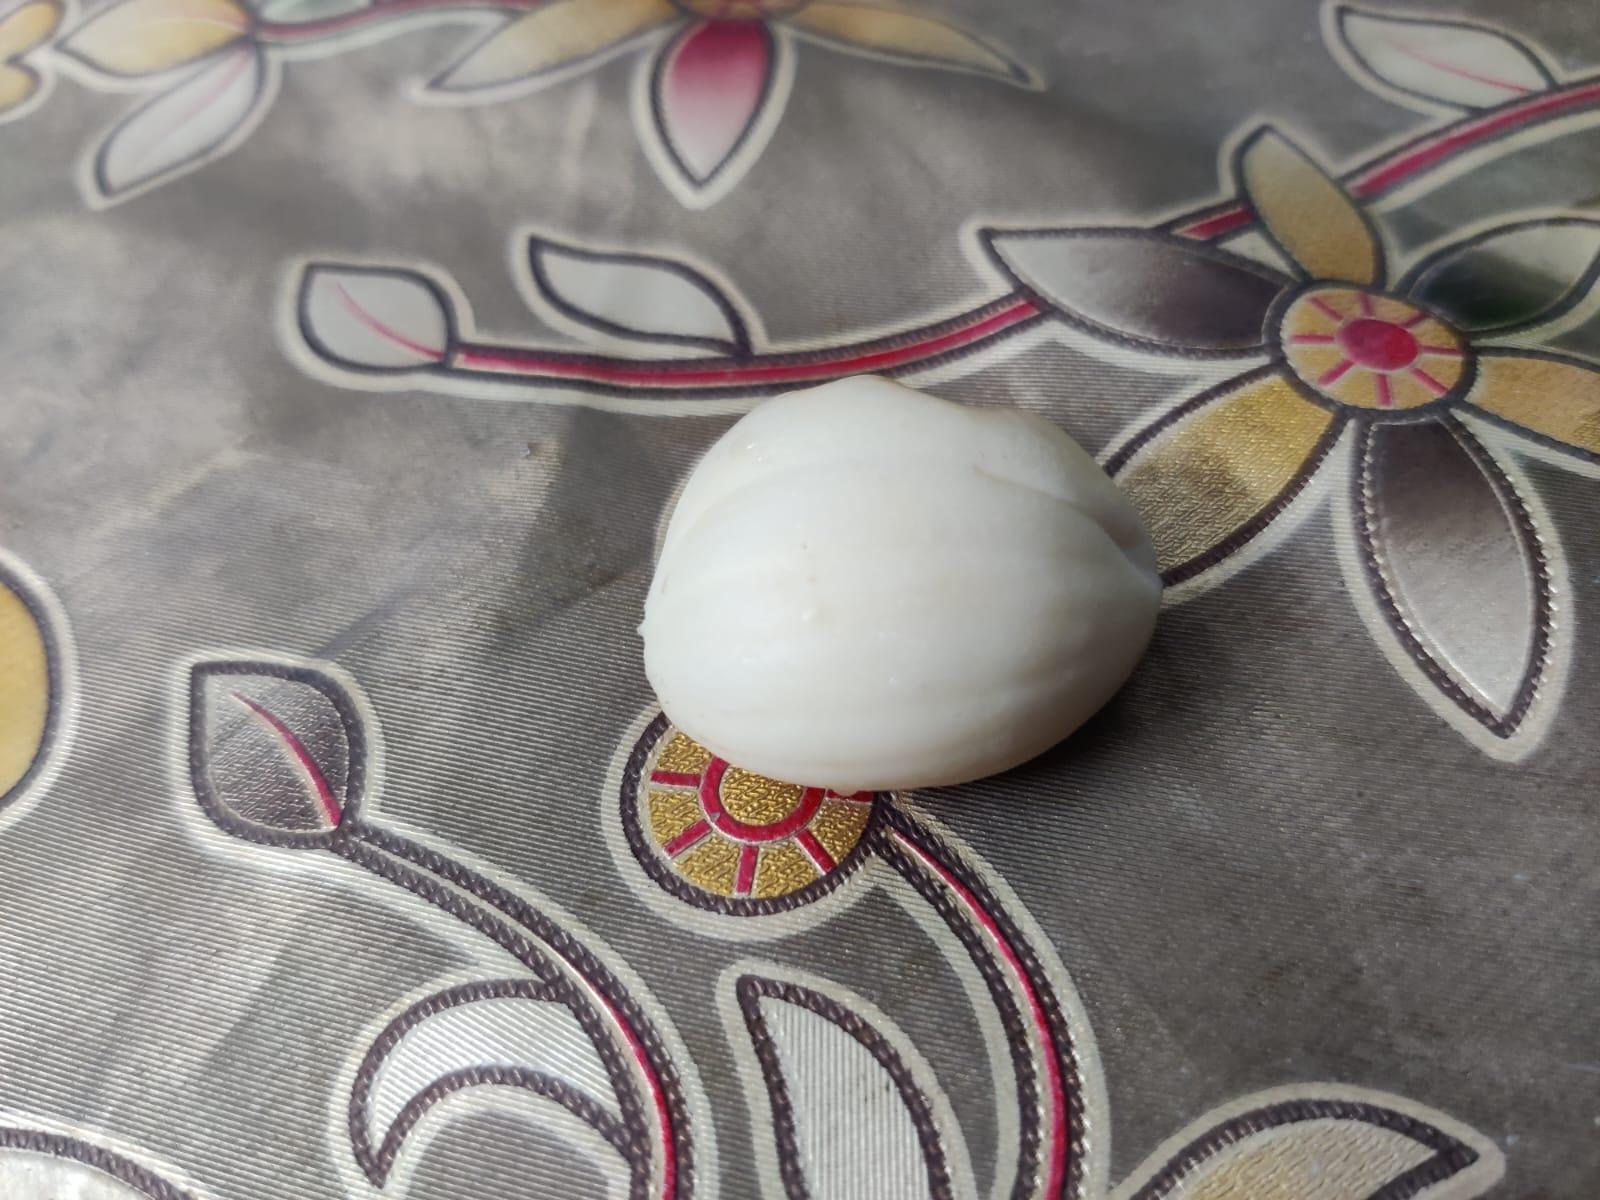non-mango: (634, 354, 1180, 803)
